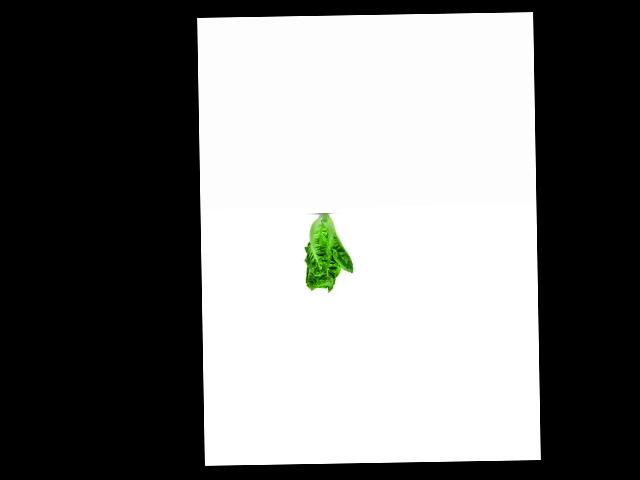lettuce: (301, 216, 353, 293)
